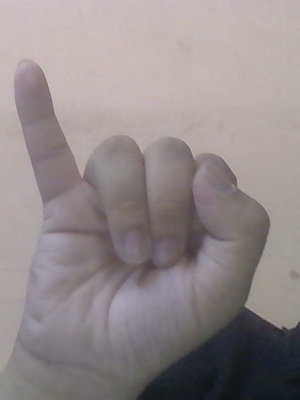I: (10, 47, 300, 337)
